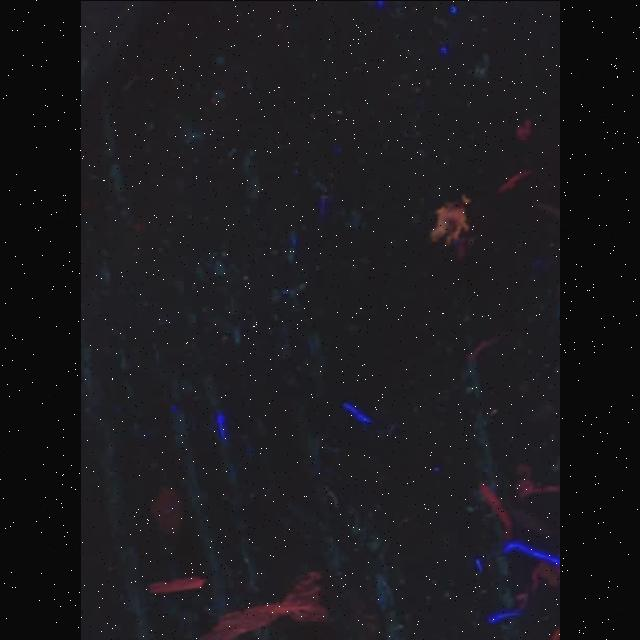Fragment: (430, 196, 469, 244)
